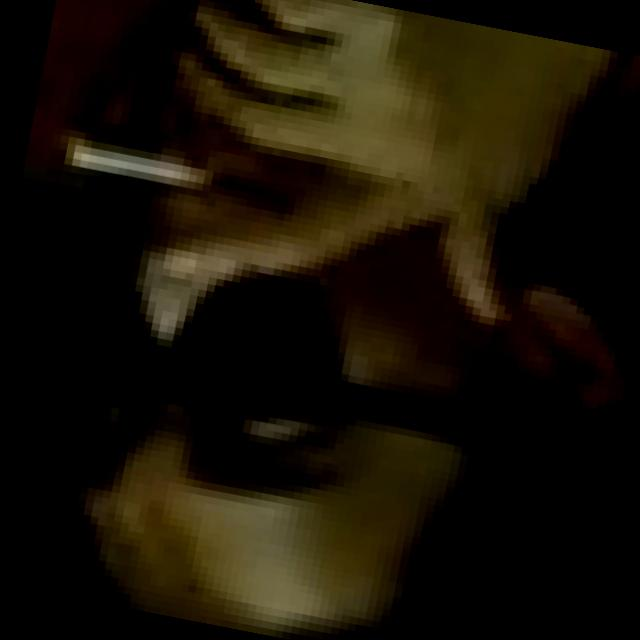smoke: (48, 119, 241, 214)
